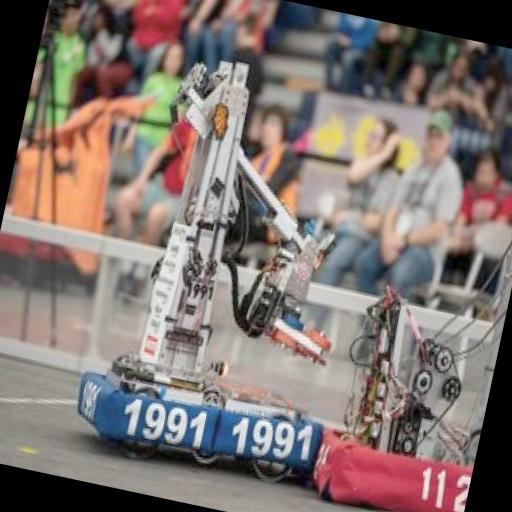robot: (64, 37, 402, 490), (306, 261, 509, 512)
